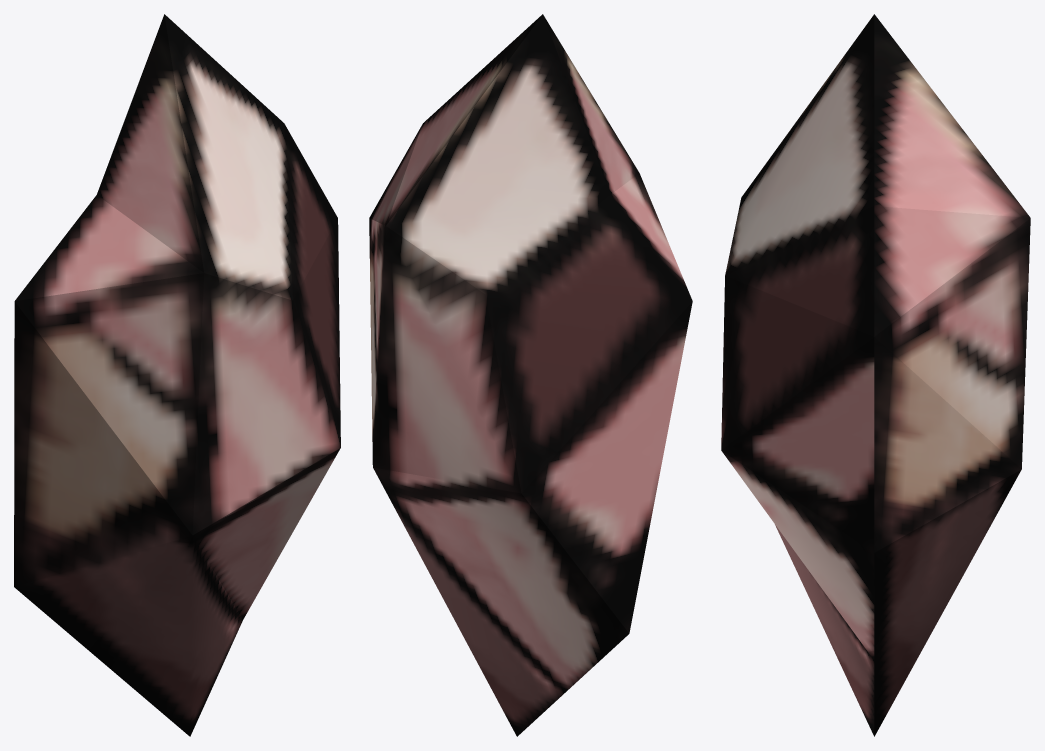
The model's file is GAM_KarmaShard.FBX.
3 views of the same model, side by side, from view 1: azimuth 30°, elevation 25°; view 2: azimuth 150°, elevation 25°; view 3: azimuth 270°, elevation 25° (orthographic). The views are drawn at different scales.
Parts seen in each view (by area): view 1: GAM_KarmaShard; view 2: GAM_KarmaShard; view 3: GAM_KarmaShard.
Boxes of the visible parts, left/top/right/bottom form: GAM_KarmaShard: left=14, top=14, right=340, bottom=736; GAM_KarmaShard: left=369, top=14, right=692, bottom=736; GAM_KarmaShard: left=721, top=14, right=1030, bottom=736.
Bounding box in the file's own units: 36.68 × 79.02 × 31.19.
